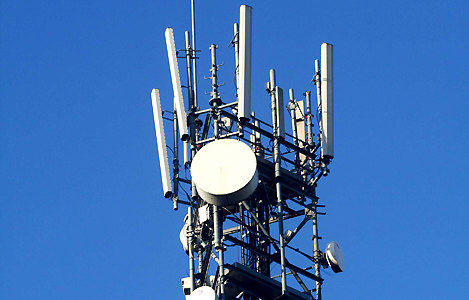a: (162, 27, 189, 137), (148, 89, 172, 196), (319, 42, 336, 156), (238, 5, 253, 118), (276, 87, 289, 141)
b: (192, 139, 253, 198), (326, 241, 346, 274)
